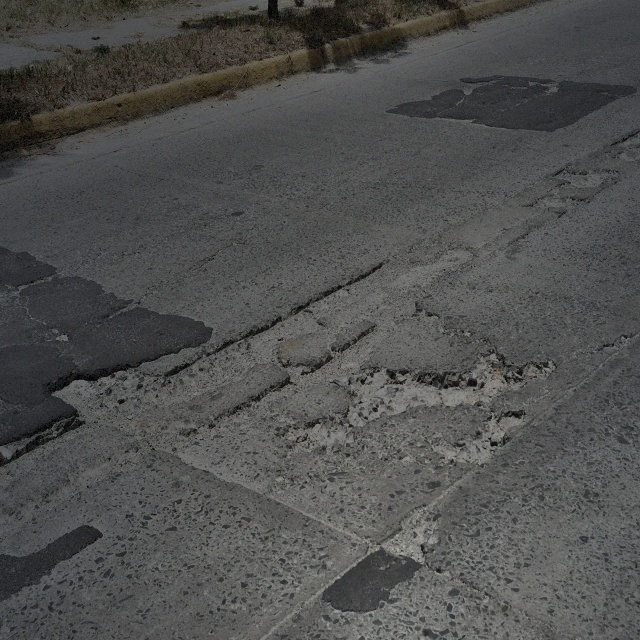pothole: (151, 294, 315, 417), (343, 363, 492, 424), (292, 316, 393, 397), (43, 368, 148, 428), (311, 256, 384, 330), (373, 495, 442, 573), (399, 239, 478, 303), (450, 409, 525, 466), (282, 412, 355, 463), (1, 415, 64, 469), (506, 351, 560, 397), (553, 163, 617, 200), (537, 192, 580, 217), (459, 76, 496, 103), (599, 332, 632, 359), (527, 78, 564, 96)
